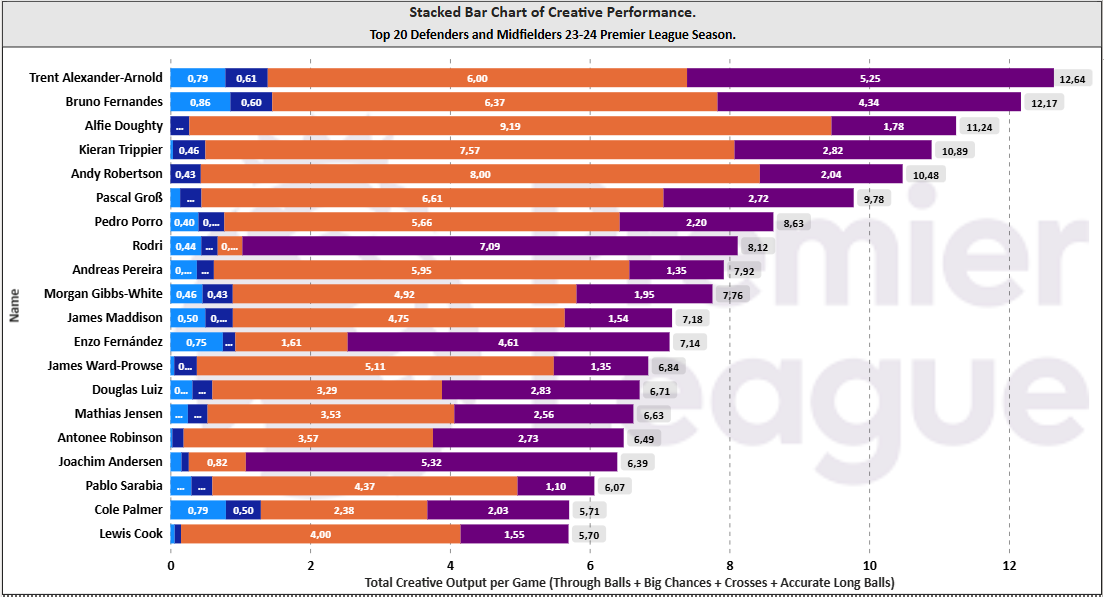

The dashboard page shown, as its layout file describes it:
{"tool":"powerbi","page":{"name":"Page 3","canvas":[1280,720],"ordinal":2},"visuals":[{"type":"barChart","title":"Stacked Bar Chart of Creative Performance.","fields":{"Category":["pl_23_24.Name"],"Y":["Sum(pl_23_24.Through Balls per Game)","Sum(pl_23_24.Big Chances Created per Game)","CountNonNull(pl_23_24.Crosses per Game)","Sum(pl_23_24.Accurate Long Balls per Game)"]},"box":[0,29.2,1280,690.6],"z":0}]}

Visuals, with their boxes on the page's 1280x720 design canvas (x1, y1, x2, y2). These are canvas units, not pixel positions in the 1104x597 screenshot, which may show the page scaled, cropped or inside an application window:
"Stacked Bar Chart of Creative Performance." barChart: detection(0, 29, 1280, 720)
